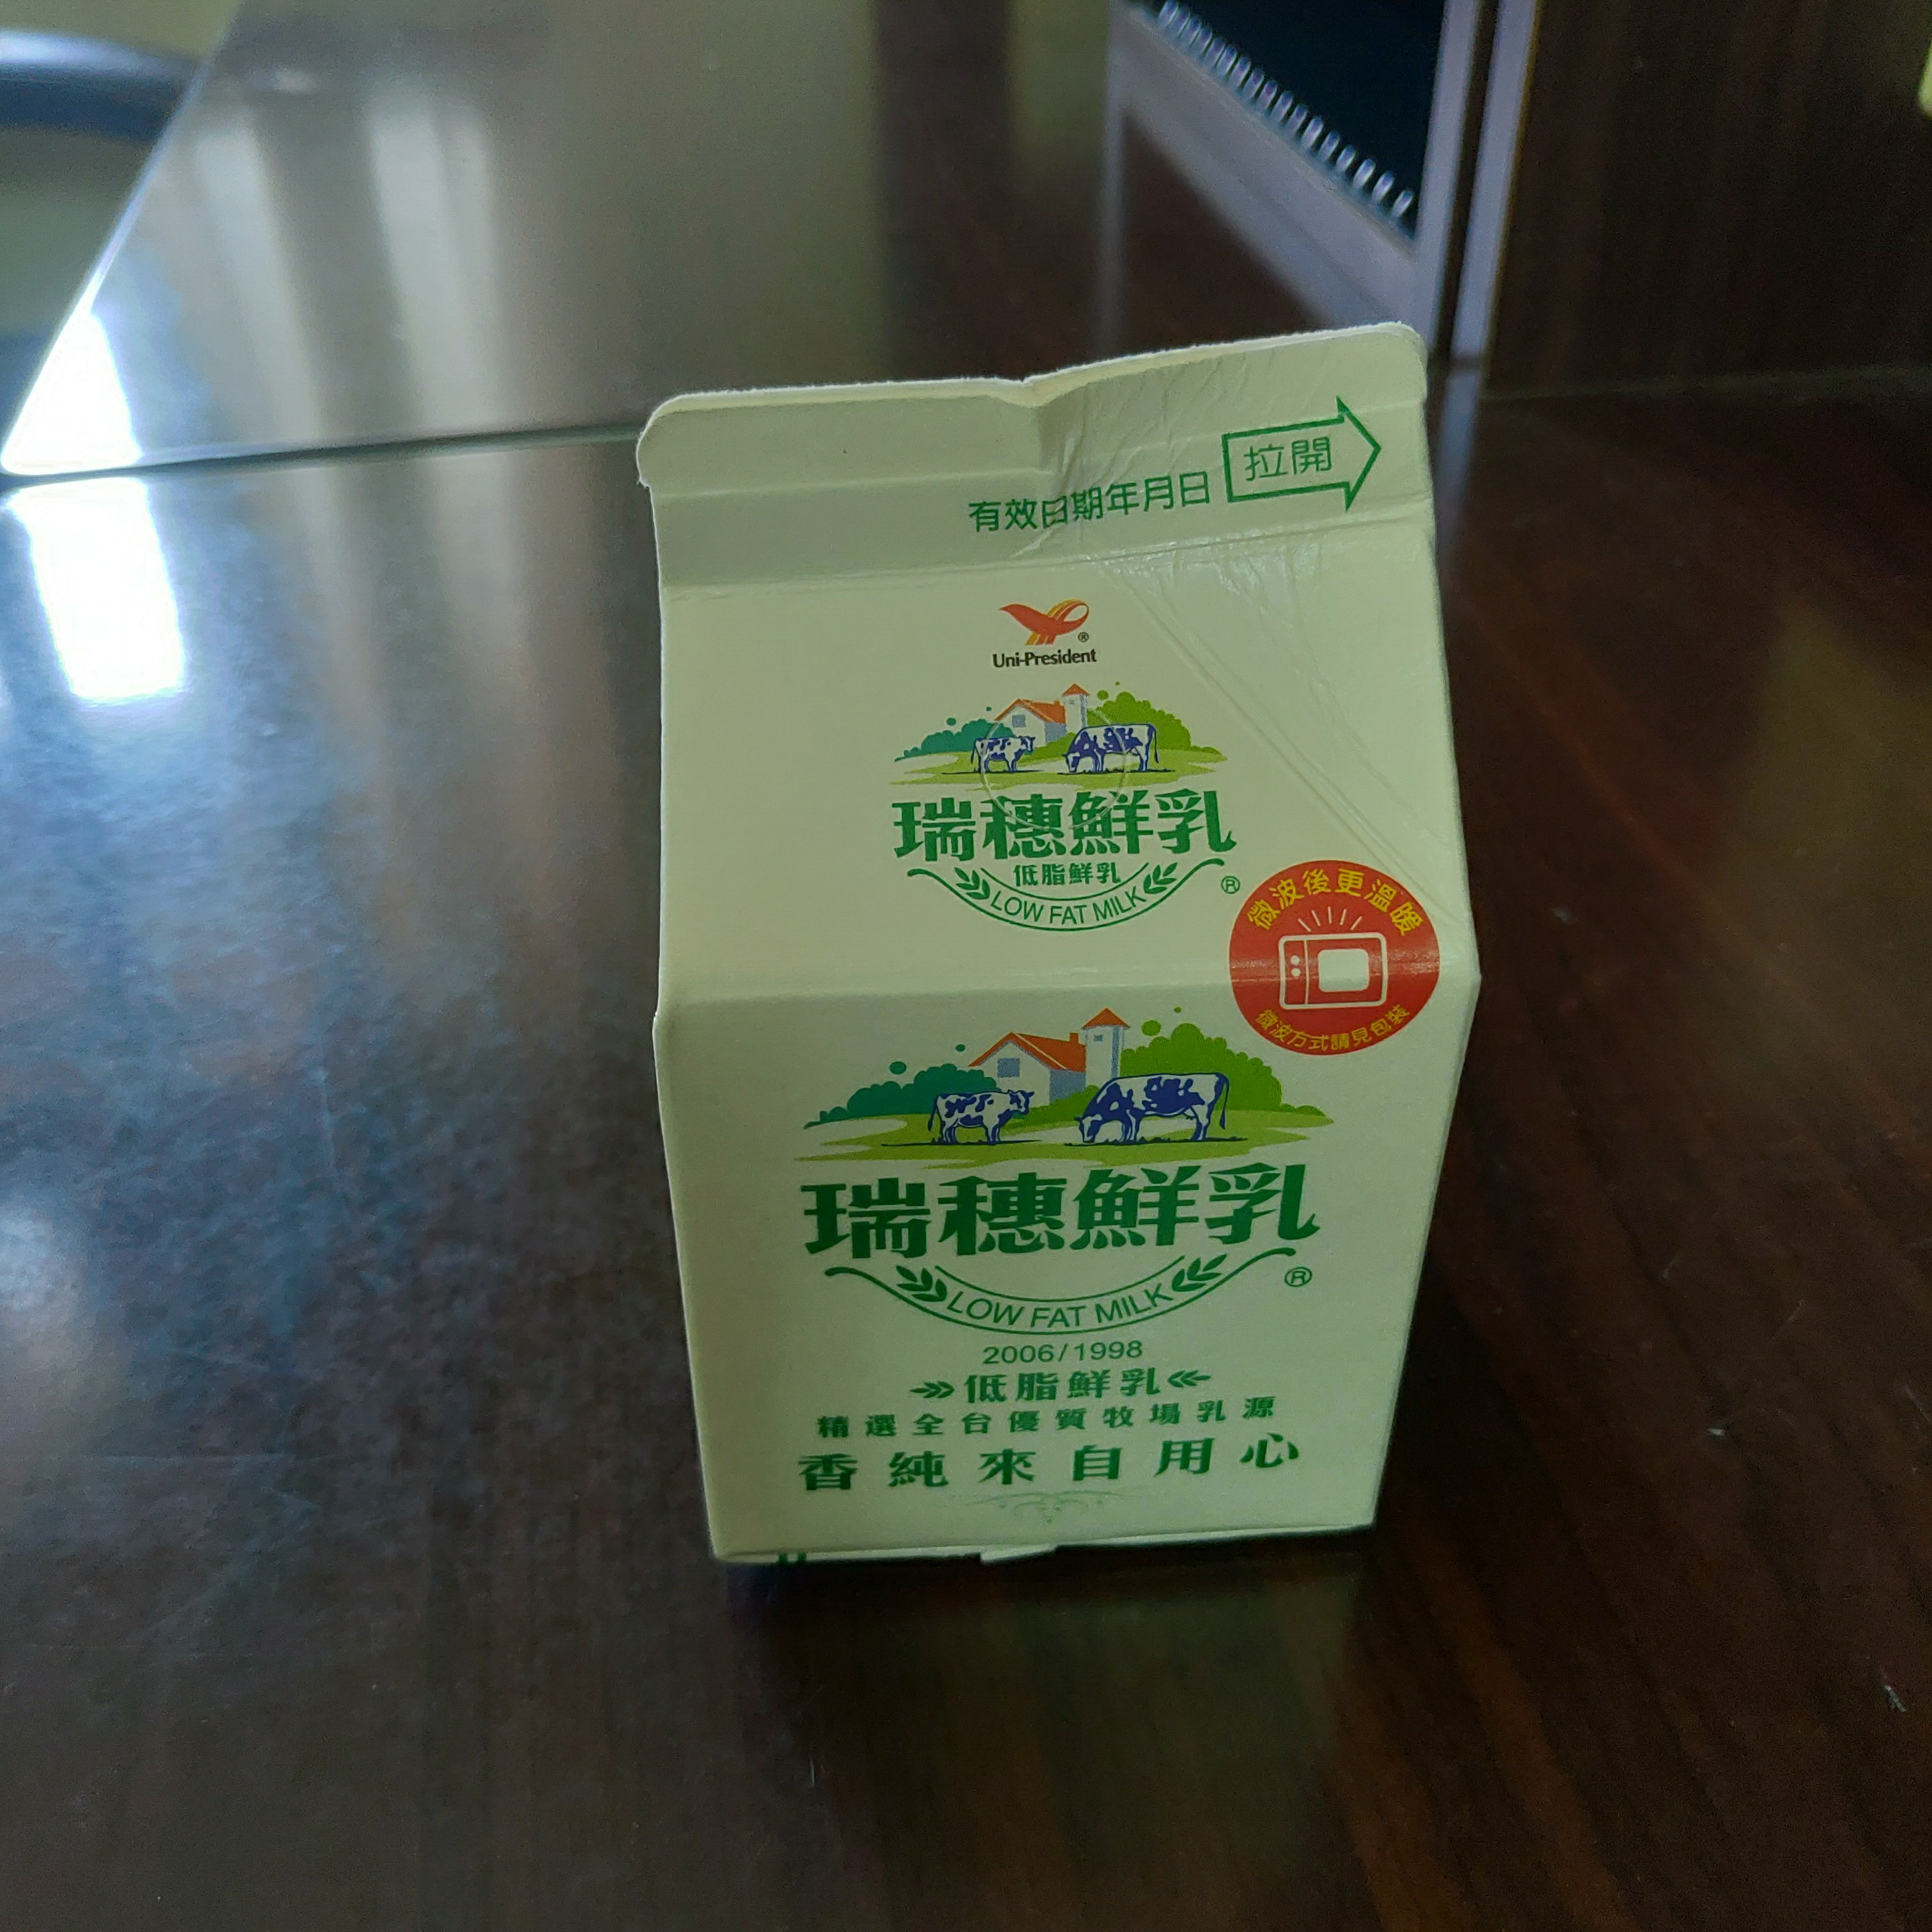Paper: (625, 310, 1506, 1587)
